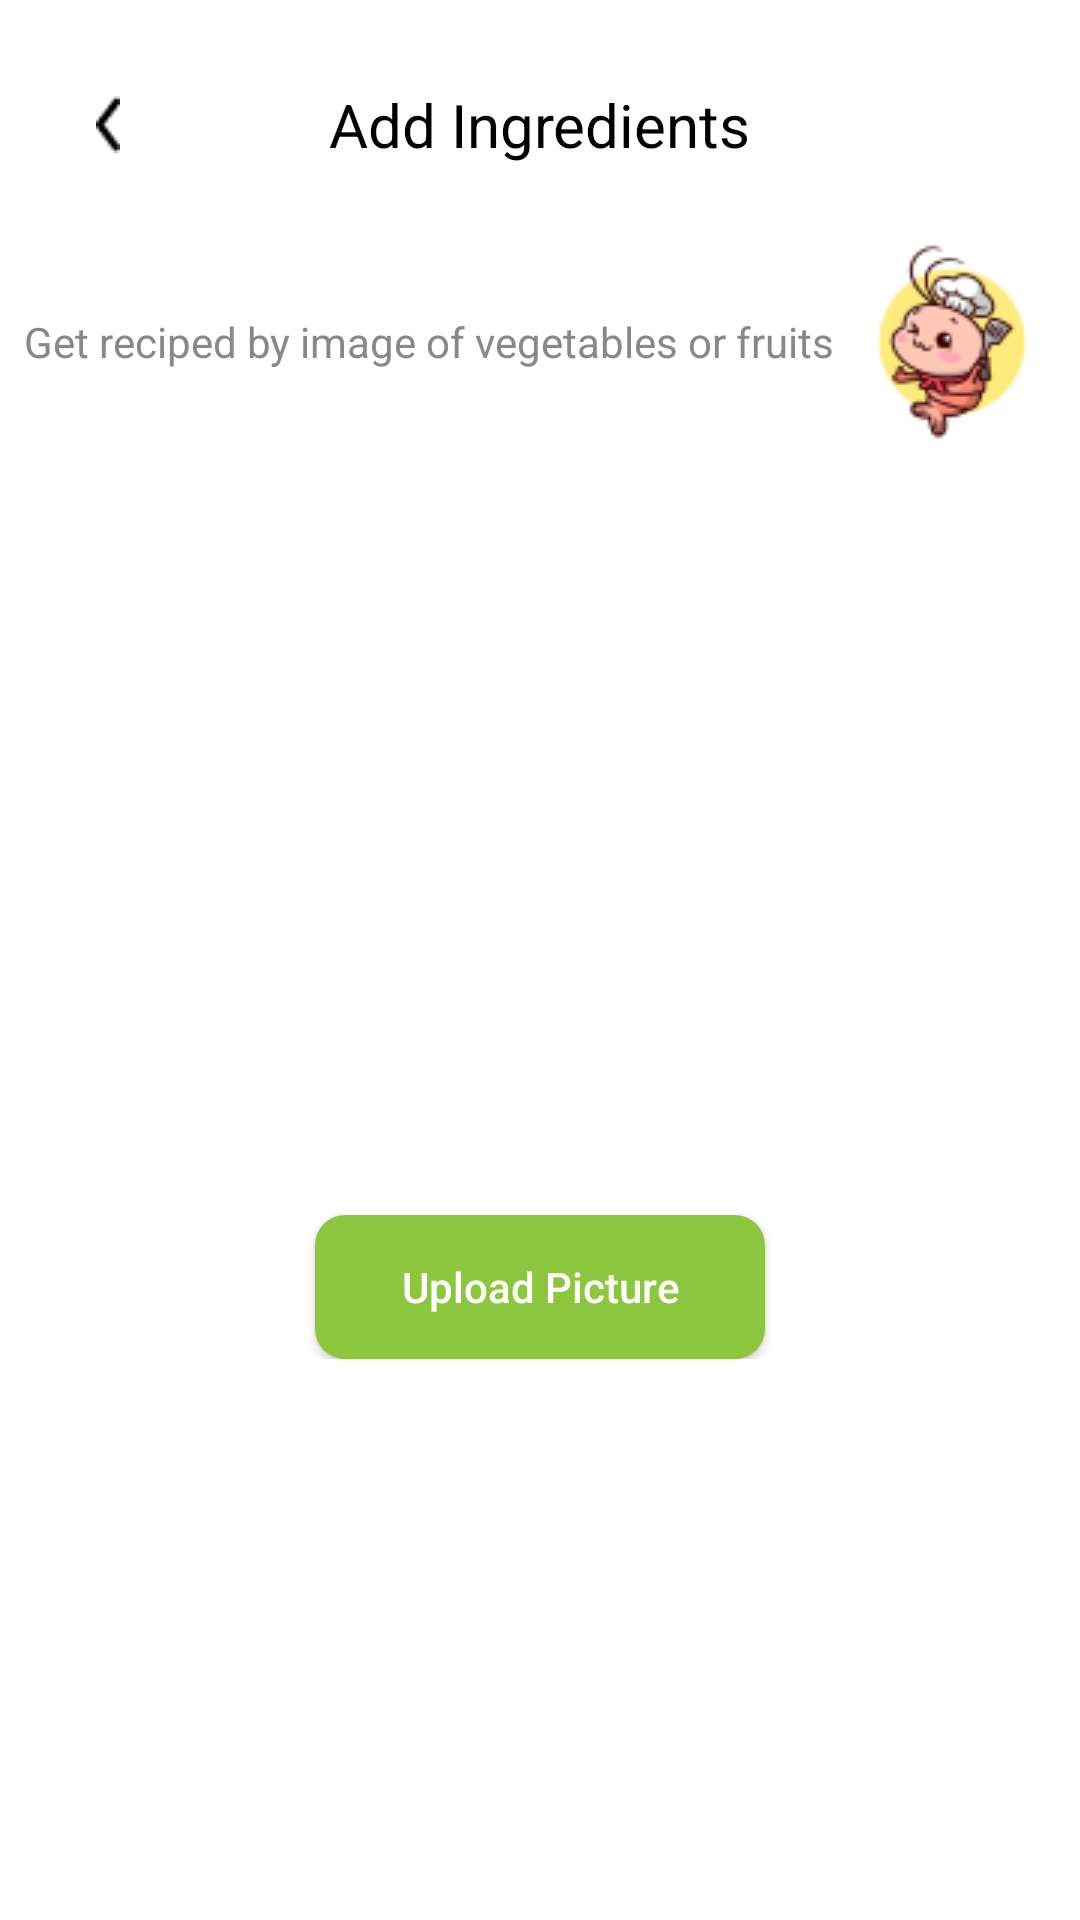

Screen size 1080px x 1920px. Icon name, then its center in pixels as (x=x, y=y):
icon back: (x=108, y=124)
Illustration Shrimp: (x=952, y=342)
